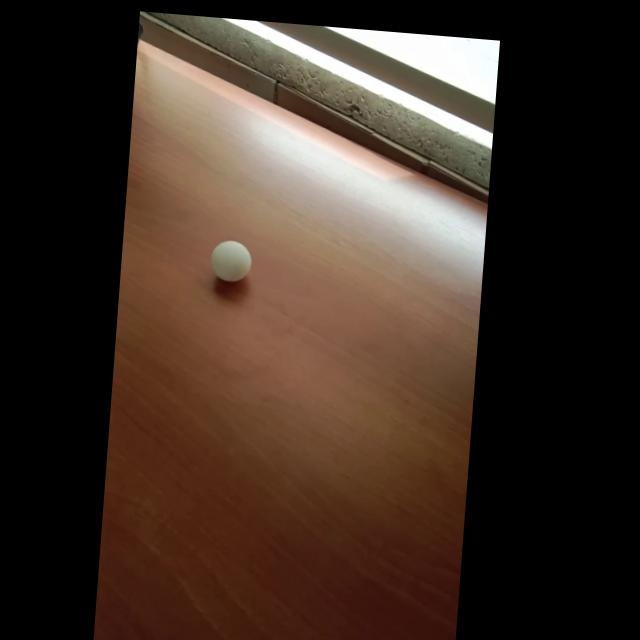white ball: (209, 239, 254, 284)
